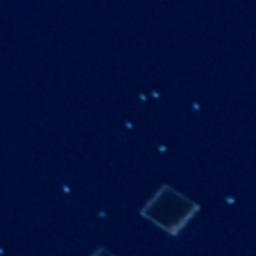square_solid: (136, 180, 205, 243)
